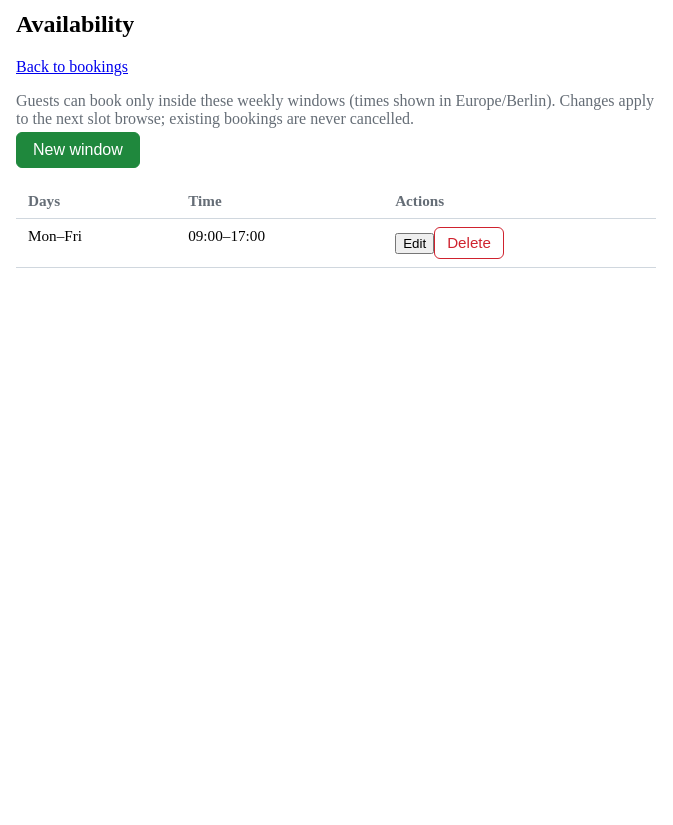
Test: HostAvailabilityPage › blocks no-days and midnight-crossing input without a request
Expected: the text "Mon–Fri" is shown, [16,218,176,267]
Click the button "New window".
click(78, 150)  # box [16,132,140,168]
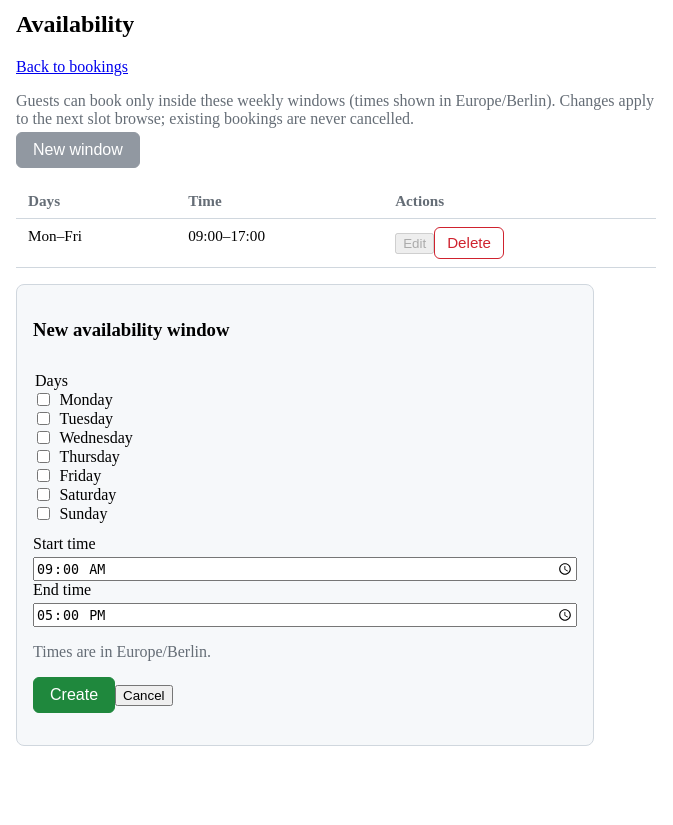
Click the button "Create".
click(74, 695)  # box [33,677,115,713]
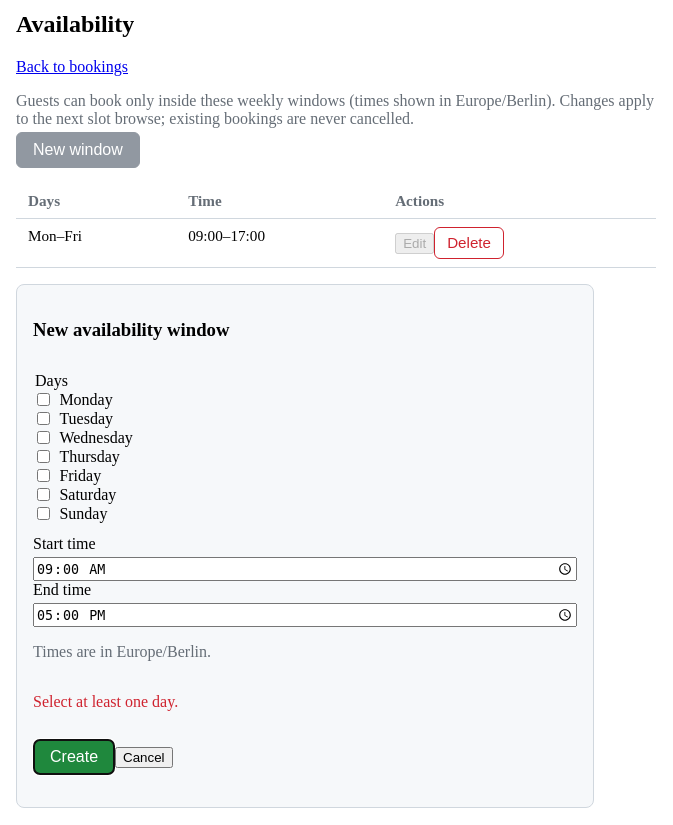
Result: the text "Select at least one day." is shown at [33,693,178,710]
Click the checkbox labelled "Monday".
click(44, 400)  # box [37,393,50,406]
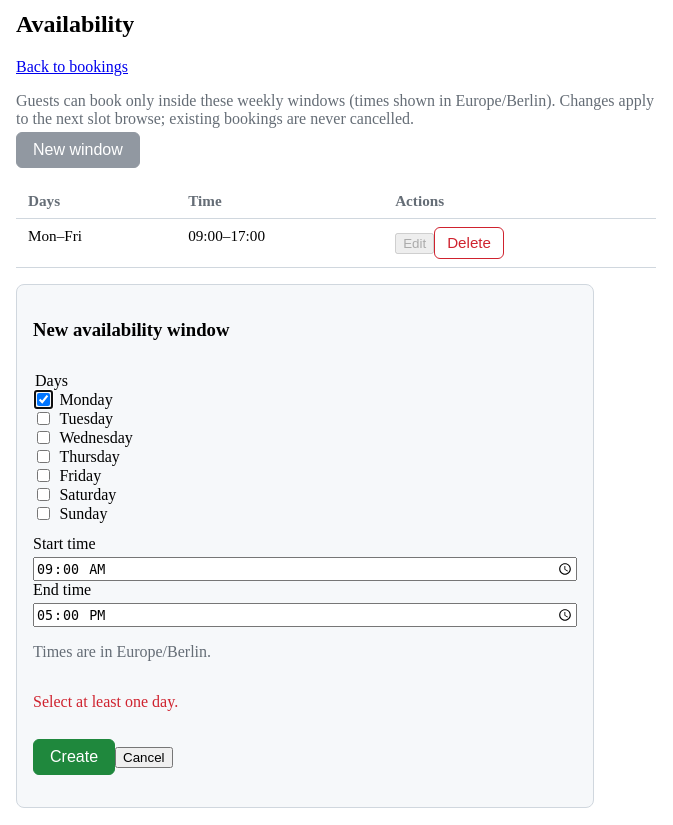
Replace the text in the time field labelled "Start time" with "10:00" at (305, 569), box [33,557,577,581]
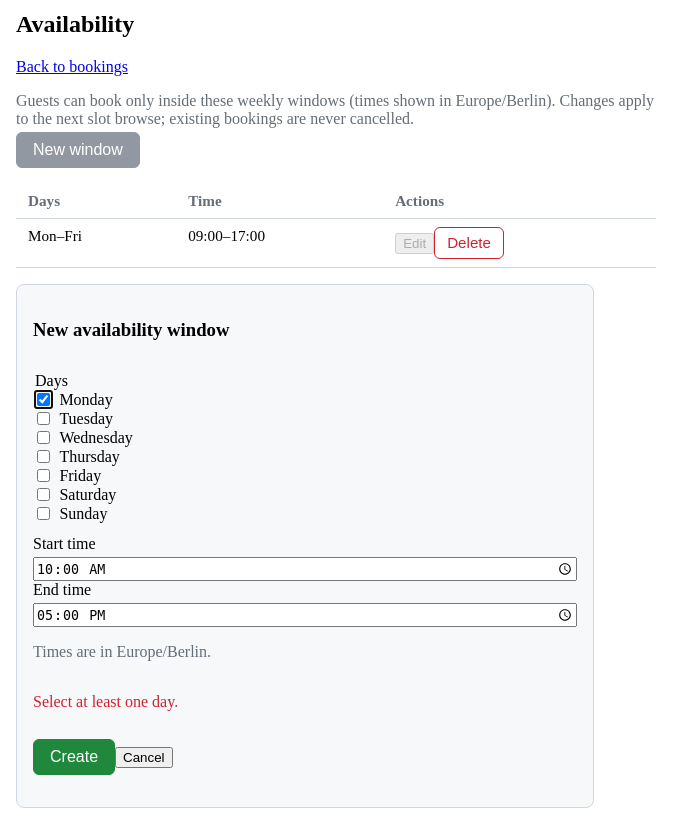
Replace the text in the time field labelled "End time" with "09:00" at (305, 615), box [33,603,577,627]
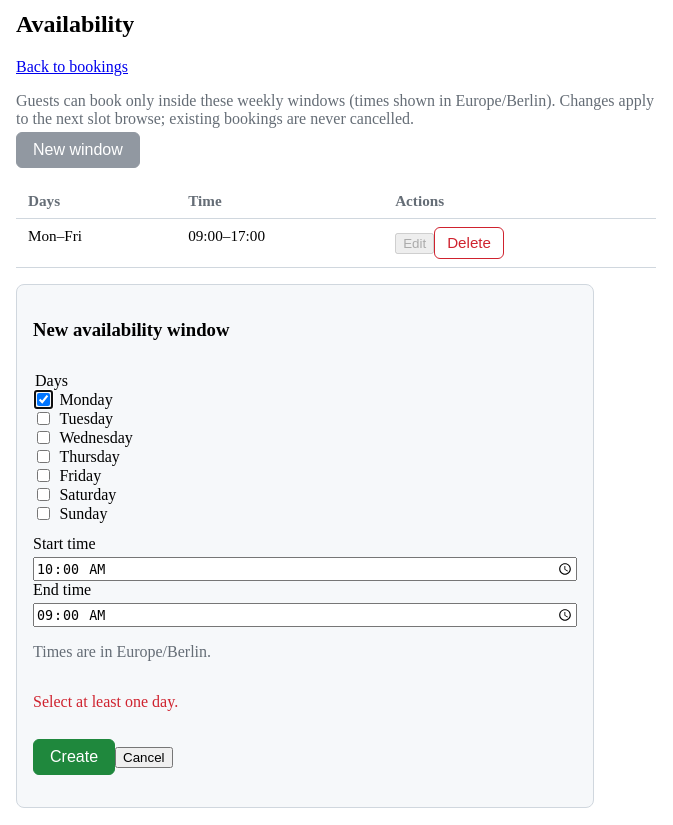
Click the button "Create".
click(74, 757)  # box [33,739,115,775]
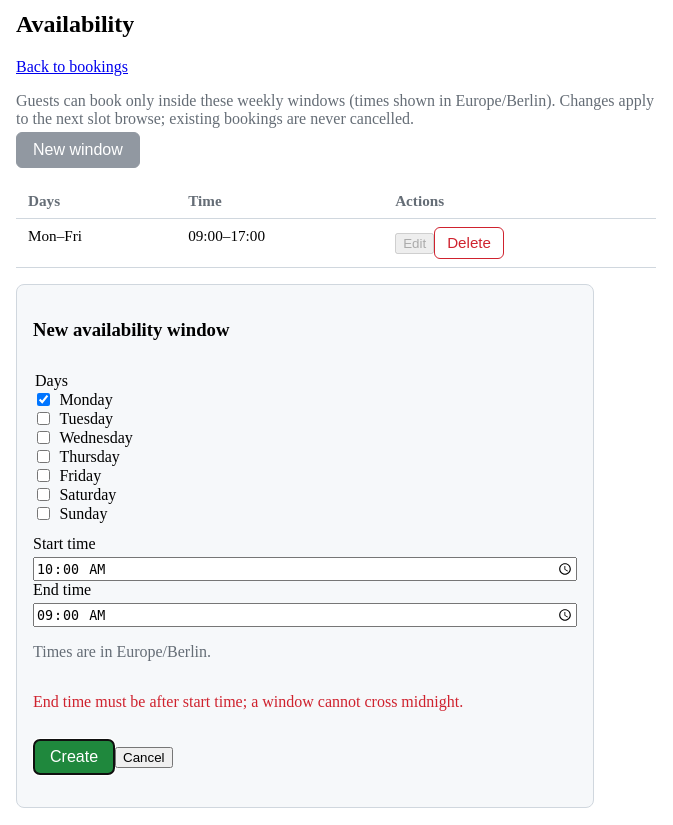
Result: the text "End time must be after start time; a window cannot cross midnight." is shown at [33,693,463,710]
